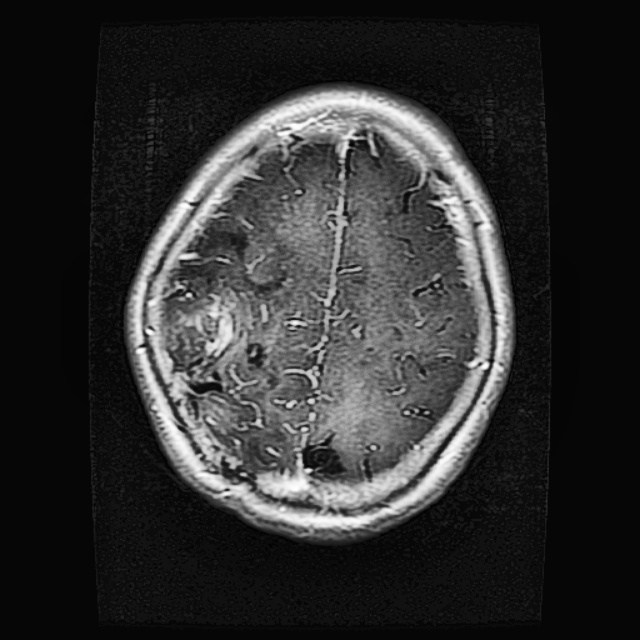Meningioma: (163, 270, 255, 395)
